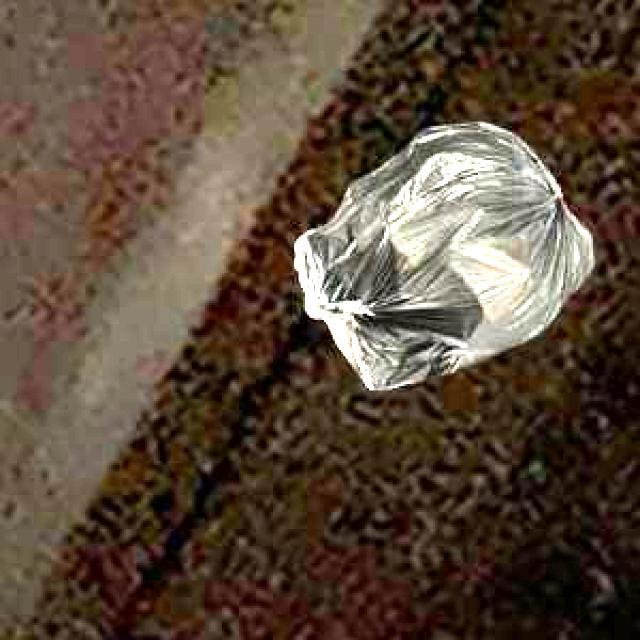Garbage_Bag: (291, 118, 590, 384)
